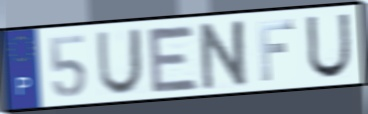5: (47, 32, 88, 100)
E: (145, 24, 202, 95)
F: (255, 18, 297, 83)
N: (198, 17, 251, 93)
U: (95, 26, 144, 97), (304, 12, 352, 81)
